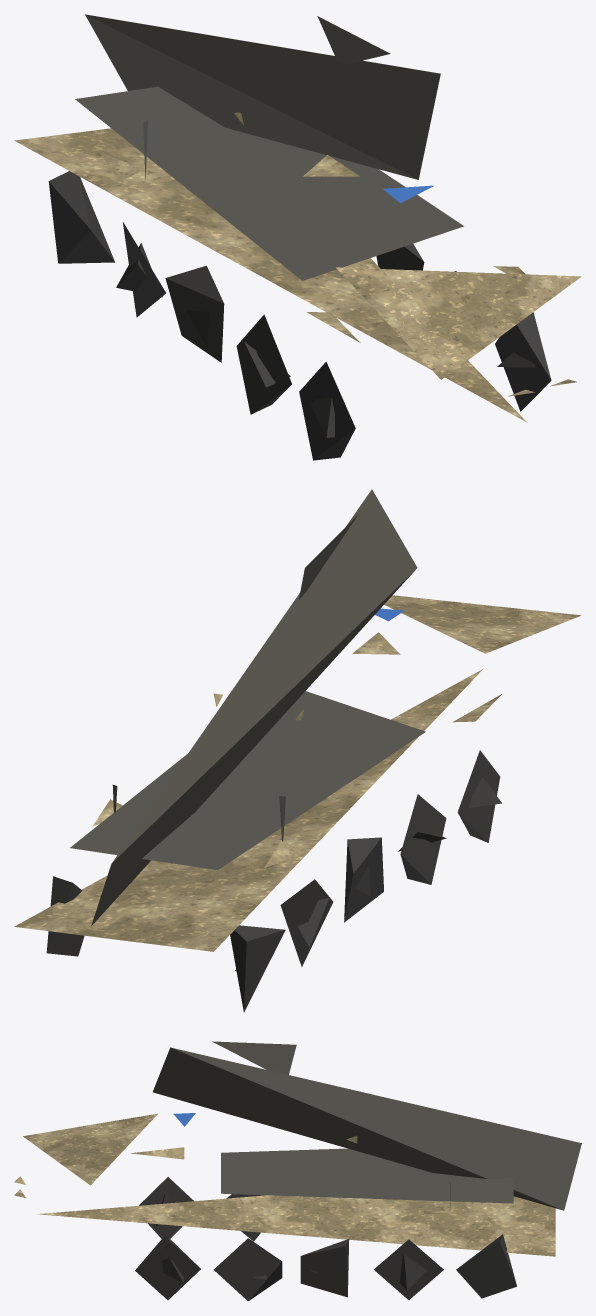
The model's file is msl_e4_us_ballistic_LOD2.glb.
3 views of the same model, one above another, from view 1: azimuth 30°, elevation 25°; view 2: azimuth 150°, elevation 25°; view 3: azimuth 270°, elevation 25° (orthographic). The views are drawn at different scales.
Visible parts, largest first — view 1: msl_e4_us_ballistic_LOD2_deck, msl_e4_us_ballistic_LOD2_body, msl_e4_us_ballistic_LOD2_track; view 2: msl_e4_us_ballistic_LOD2_deck, msl_e4_us_ballistic_LOD2_body, msl_e4_us_ballistic_LOD2_track; view 3: msl_e4_us_ballistic_LOD2_deck, msl_e4_us_ballistic_LOD2_body, msl_e4_us_ballistic_LOD2_track.
Part boxes in pixels (left/top/right/bottom): msl_e4_us_ballistic_LOD2_deck: left=75, top=14, right=463, bottom=280; msl_e4_us_ballistic_LOD2_body: left=14, top=112, right=581, bottom=422; msl_e4_us_ballistic_LOD2_track: left=48, top=171, right=551, bottom=460; msl_e4_us_ballistic_LOD2_deck: left=70, top=489, right=425, bottom=926; msl_e4_us_ballistic_LOD2_body: left=14, top=595, right=581, bottom=951; msl_e4_us_ballistic_LOD2_track: left=46, top=750, right=501, bottom=1012; msl_e4_us_ballistic_LOD2_deck: left=153, top=1041, right=581, bottom=1210; msl_e4_us_ballistic_LOD2_body: left=14, top=1113, right=555, bottom=1256; msl_e4_us_ballistic_LOD2_track: left=135, top=1177, right=516, bottom=1301.
Size of the model in its own units: 3.14 by 4.84 by 10.88.
Materials: 5 (1 with a texture image).
